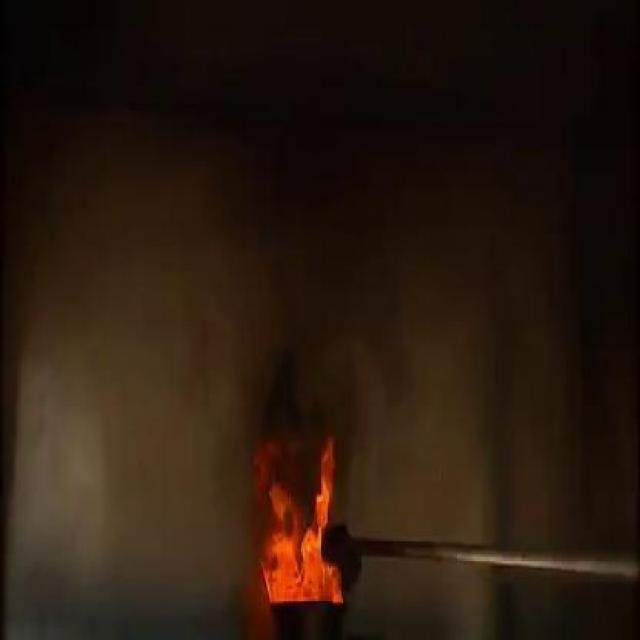fire: (258, 430, 352, 598)
